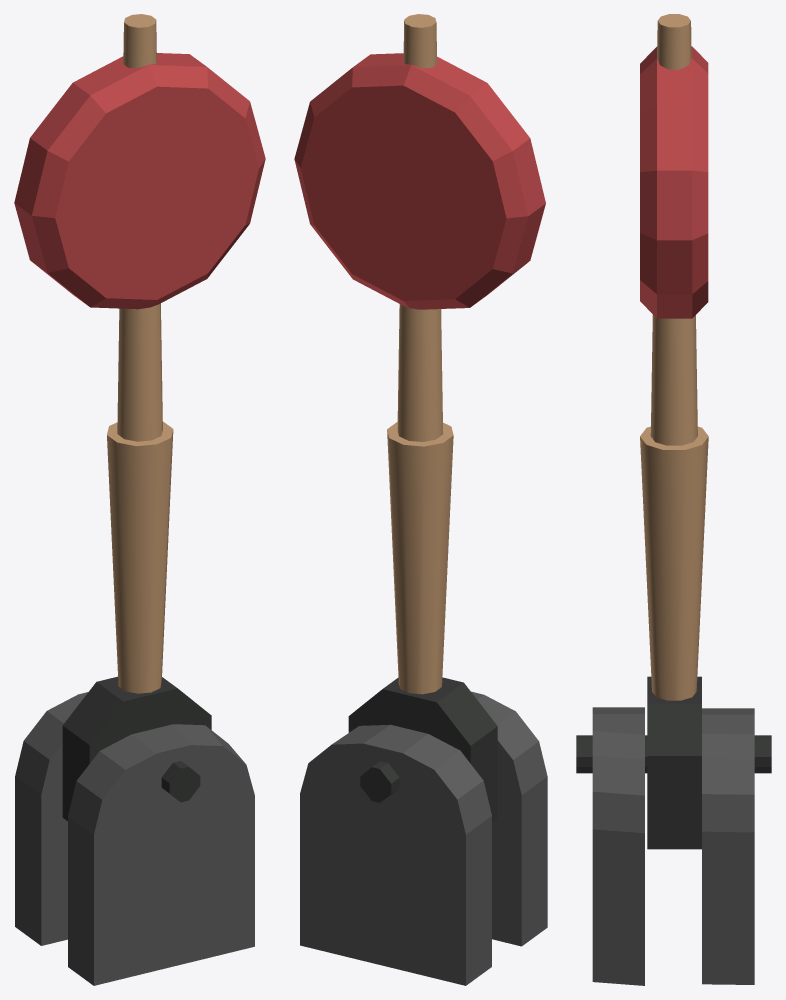
Rendered from railroad switch.fbx.
3 views of the same model, side by side, from view 1: azimuth 30°, elevation 25°; view 2: azimuth 150°, elevation 25°; view 3: azimuth 270°, elevation 25° (orthographic).
Parts seen in each view (by area): view 1: switch, switch stand; view 2: switch, switch stand; view 3: switch, switch stand.
Part boxes in pixels (left/top/right/bottom): switch: left=14, top=14, right=265, bottom=821; switch stand: left=15, top=692, right=254, bottom=985; switch: left=294, top=14, right=545, bottom=822; switch stand: left=300, top=691, right=547, bottom=985; switch: left=576, top=14, right=771, bottom=849; switch stand: left=592, top=707, right=754, bottom=985.
Size of the model in its own units: 0.8275 by 3.09 by 0.5923.
